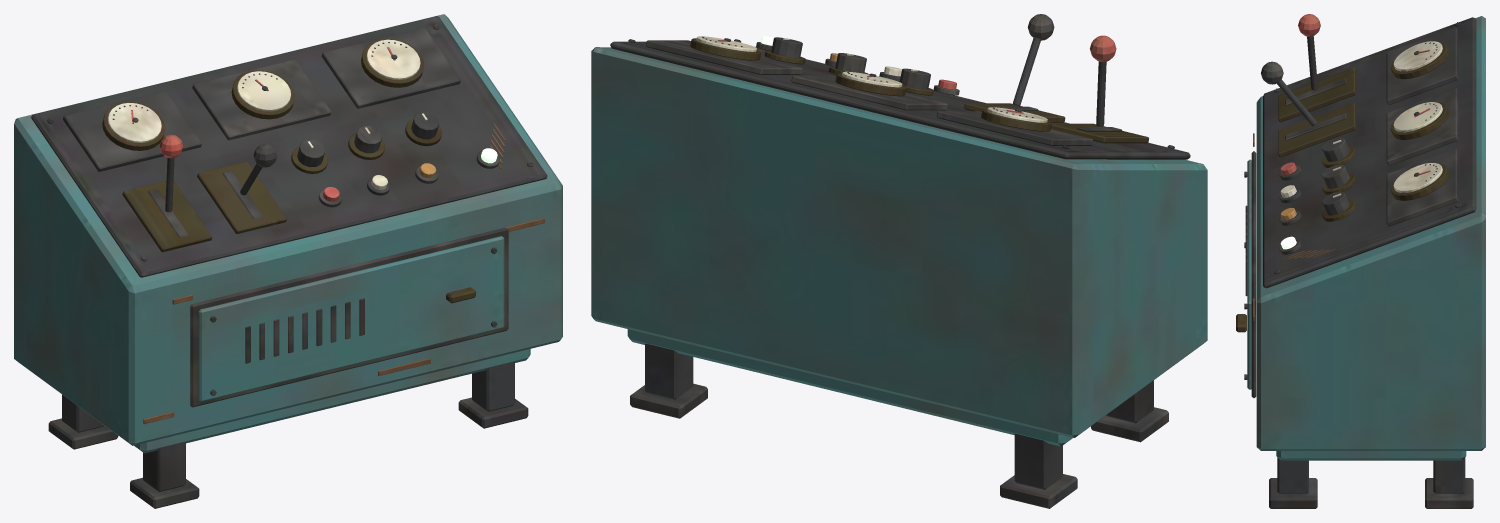
File: Y17_control_console.glb
The picture shows the model from 3 angles, left to right: view 1: azimuth 30°, elevation 25°; view 2: azimuth 150°, elevation 25°; view 3: azimuth 270°, elevation 25°; orthographic projection. The views are drawn at different scales.
Visible parts, largest first — view 1: Rubber foot; view 2: Rubber foot; view 3: Rubber foot.
Part boxes in pixels (<box>): Rubber foot: <box>14,14,562,508</box>; Rubber foot: <box>591,14,1207,508</box>; Rubber foot: <box>1236,14,1485,508</box>.
Size of the model in its own units: 2 by 1.54 by 1.03.
10 materials, 9 textured.
